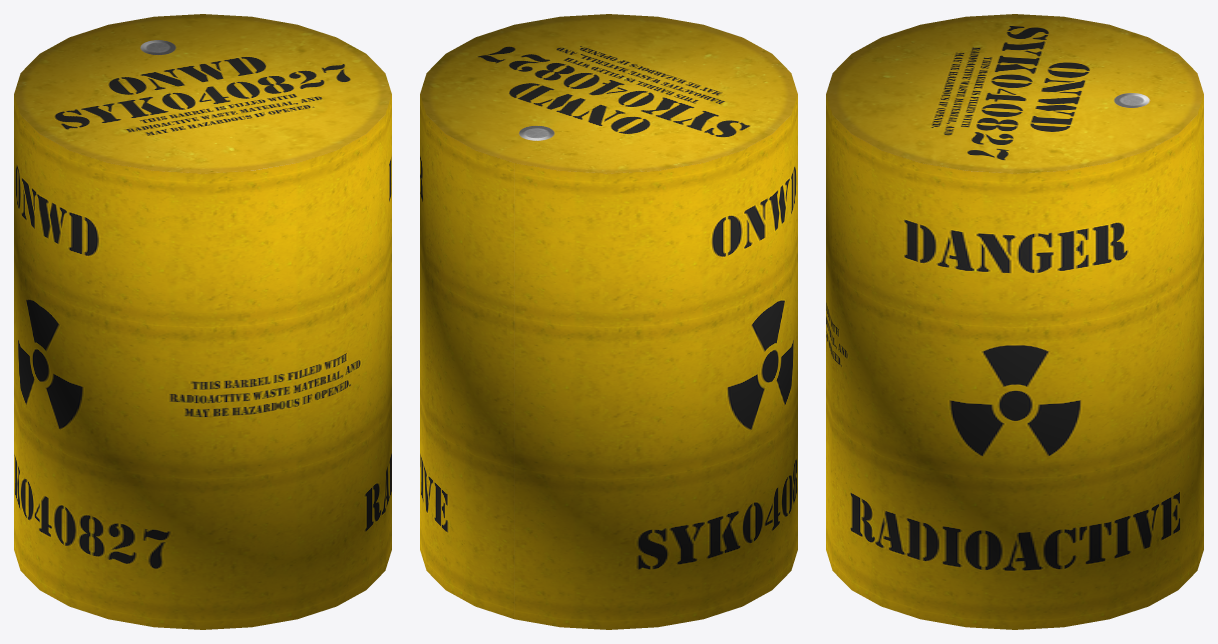
Rendered from nuclear_waste_barrel.glb.
3 views of the same model, side by side, from view 1: azimuth 30°, elevation 25°; view 2: azimuth 150°, elevation 25°; view 3: azimuth 270°, elevation 25° (orthographic).
Visible parts, largest first — view 1: Object_2; view 2: Object_2; view 3: Object_2.
Boxes of the visible parts, x1,y1,x2,y2 form: Object_2: (14, 14, 391, 629); Object_2: (420, 14, 797, 629); Object_2: (826, 14, 1203, 629).
Size of the model in its own units: 48 by 64 by 48.
1 material, 1 textured.
